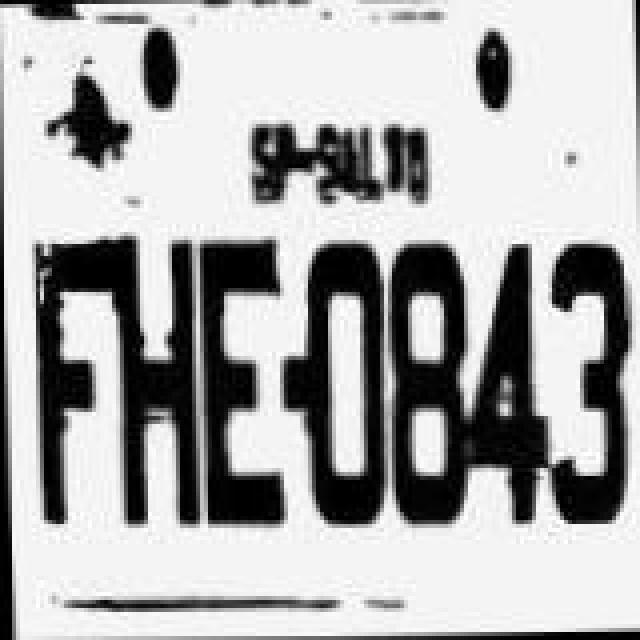3: (544, 232, 640, 536)
4: (464, 234, 556, 530)
8: (384, 232, 476, 528)
E: (194, 226, 286, 526)
F: (26, 234, 122, 526)
H: (112, 220, 204, 536)
O: (302, 234, 390, 530)
